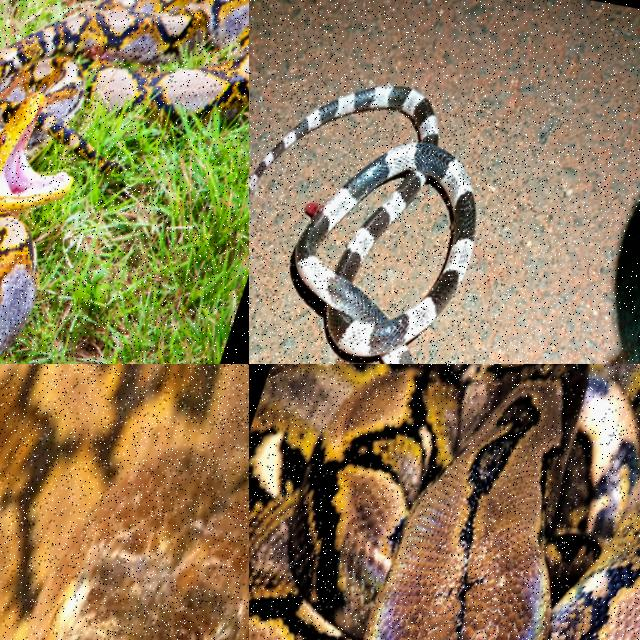Bungarus candidus: (249, 86, 476, 363)
Malayopython reticulatus: (249, 364, 639, 639), (0, 0, 248, 355), (0, 364, 248, 639)
